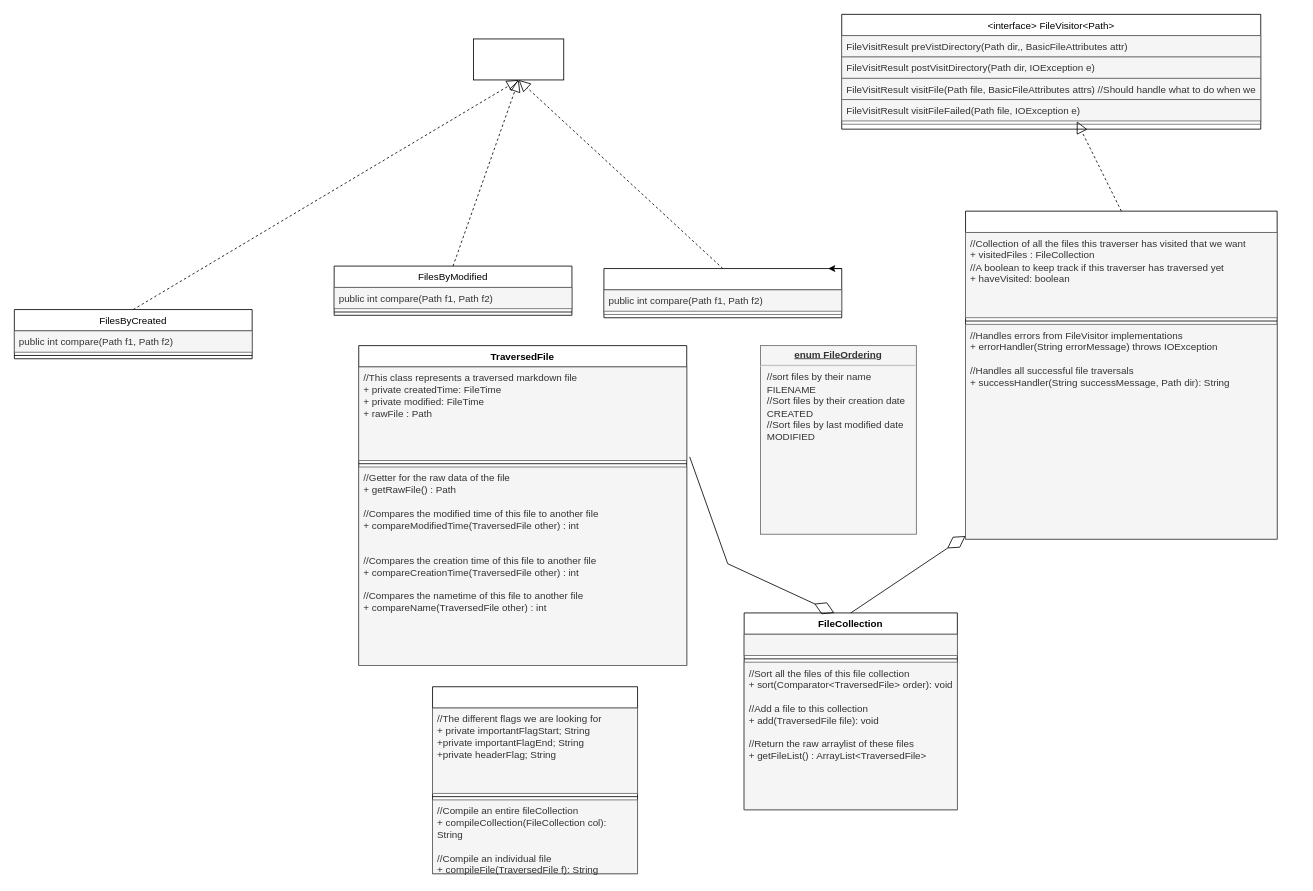
Image size: 1313x891. Some labels were removed from this diagram. Each missing label, with the box of its shape:
+ fileList: ArrrayList<TraversedFile>: (743, 633, 957, 656)
FilesByFileName: (603, 268, 842, 318)
FileTraverser: (965, 210, 1277, 539)
MarkdownCompiler: (432, 686, 638, 874)
«interface» Comparator<T>: (473, 38, 564, 80)
